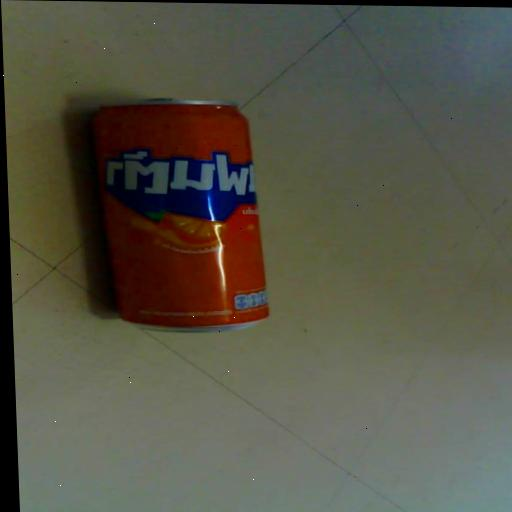canned: (67, 90, 287, 340)
